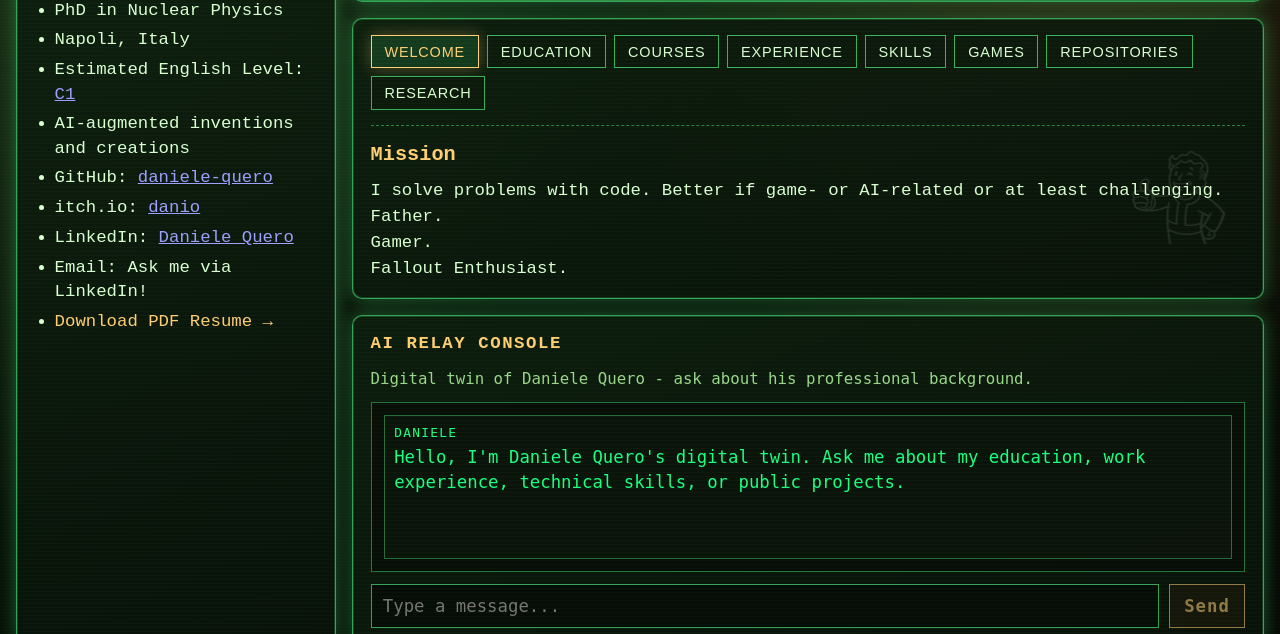
Test: App - chat visibility by active tab › shows chat again when returning to Welcome
Click the tab "Education" at (547, 52), box [487,35,606,68]
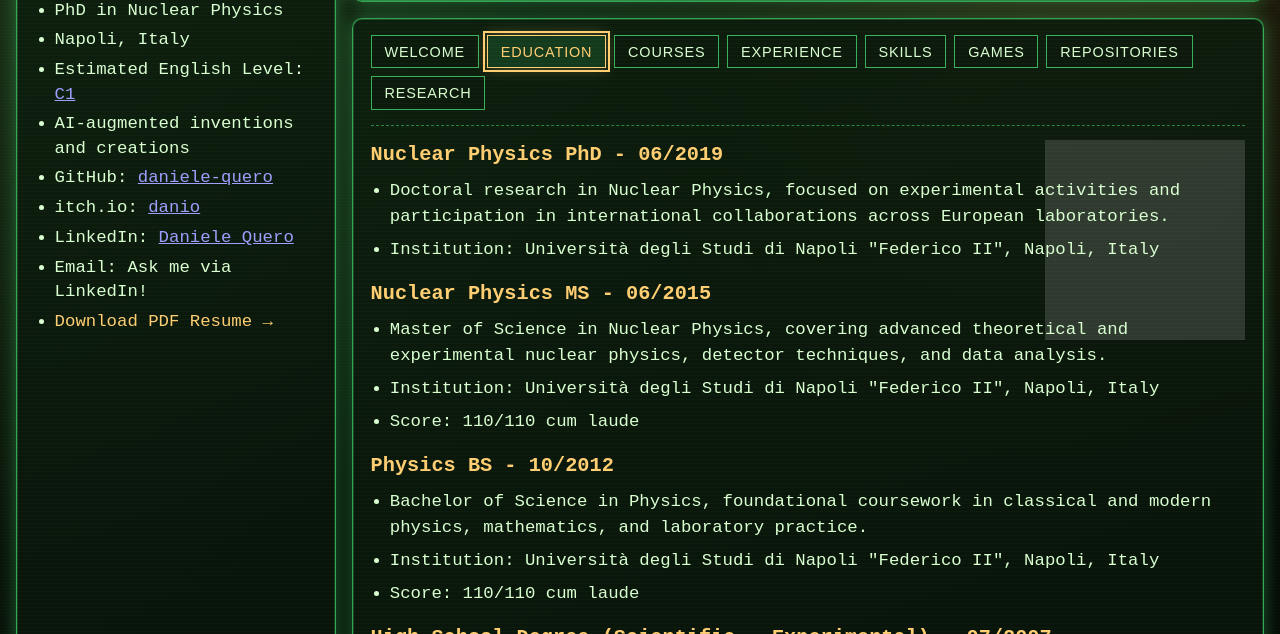
Click the tab "Welcome" at (425, 52), box [371,35,479,68]
(page scrolled)
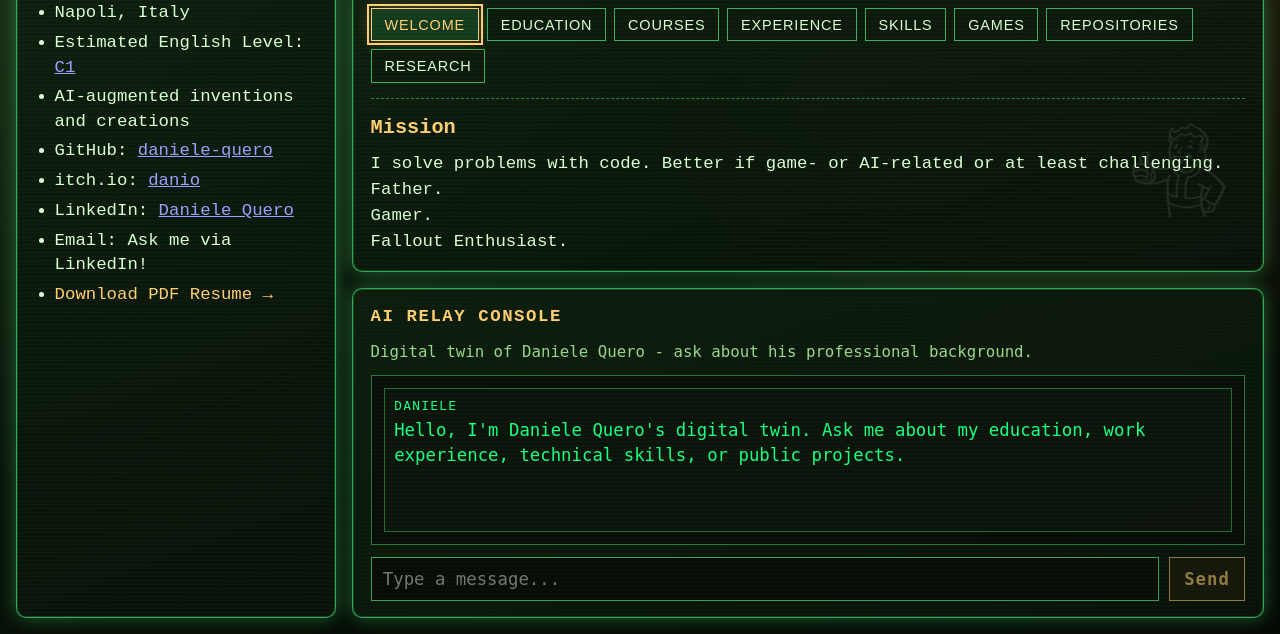
Now the element named "Chat" is shown, box [352,288,1264,618]
